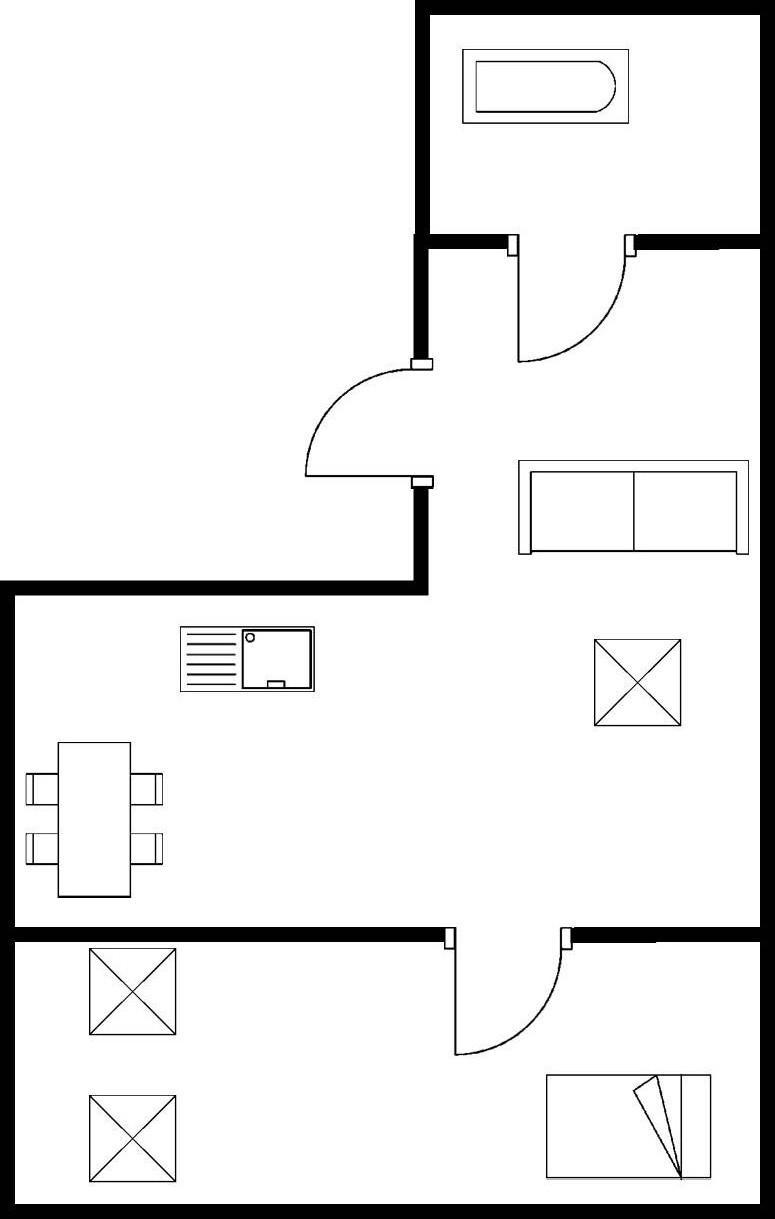bed: (537, 1067, 716, 1184)
dining_table: (18, 734, 171, 905)
sink: (171, 619, 321, 698)
sofa: (512, 454, 753, 562)
tub: (451, 39, 638, 132)
